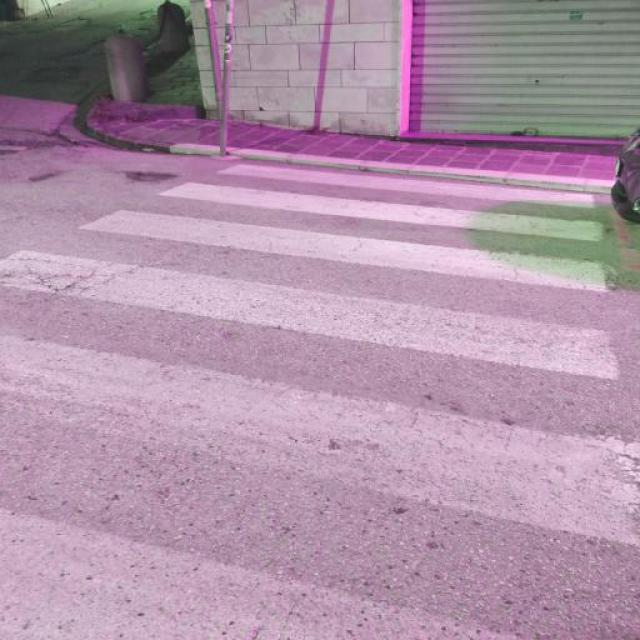crosswalk: (1, 160, 640, 640)
